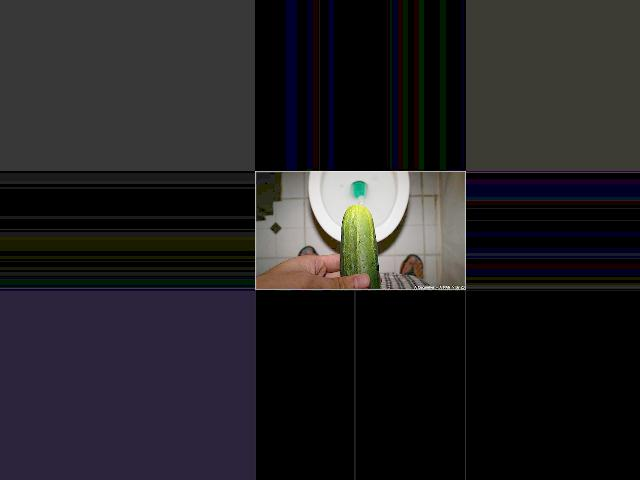cucumber: (341, 205, 380, 290)
